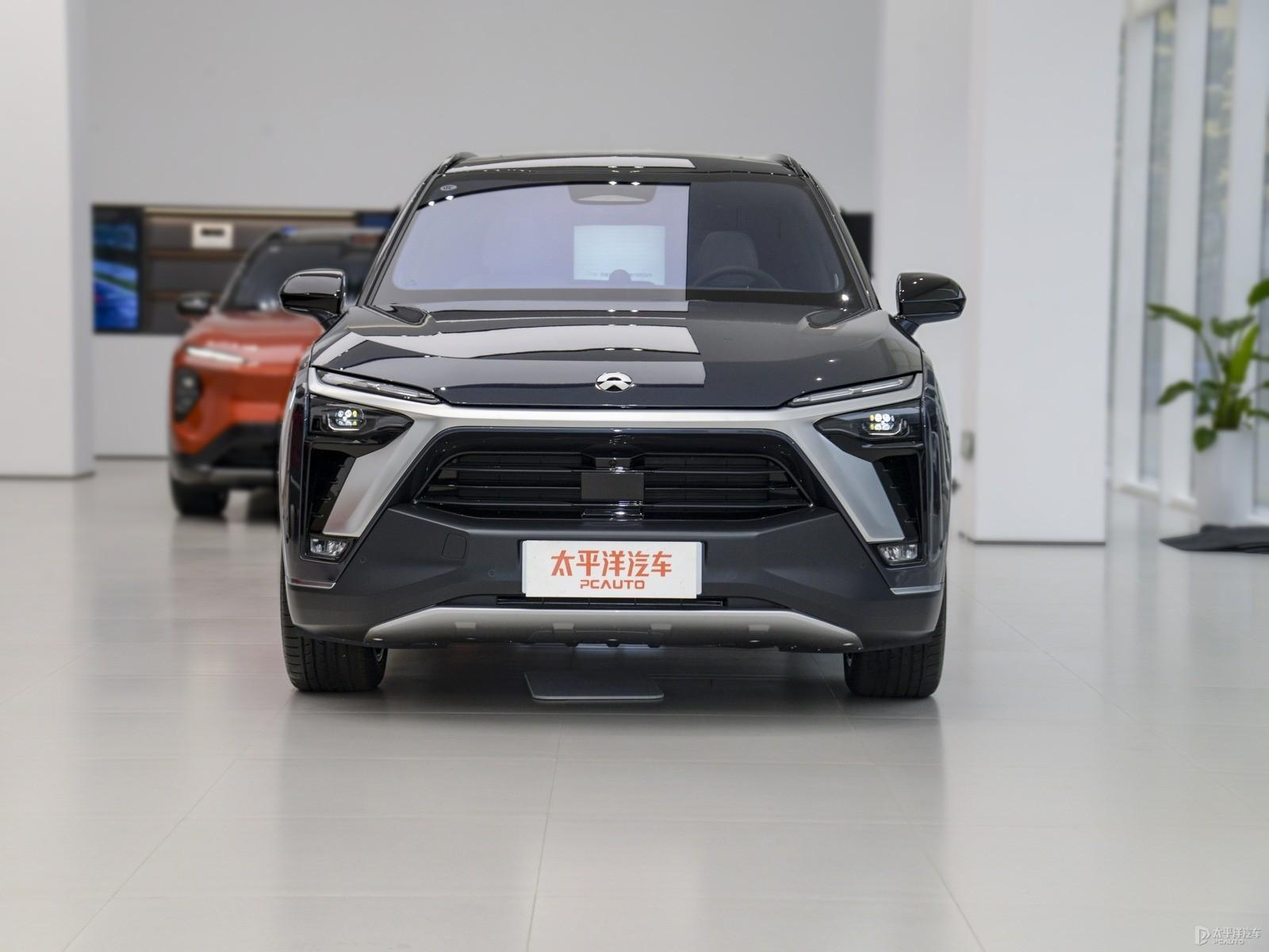NIO: (596, 373, 632, 390)
